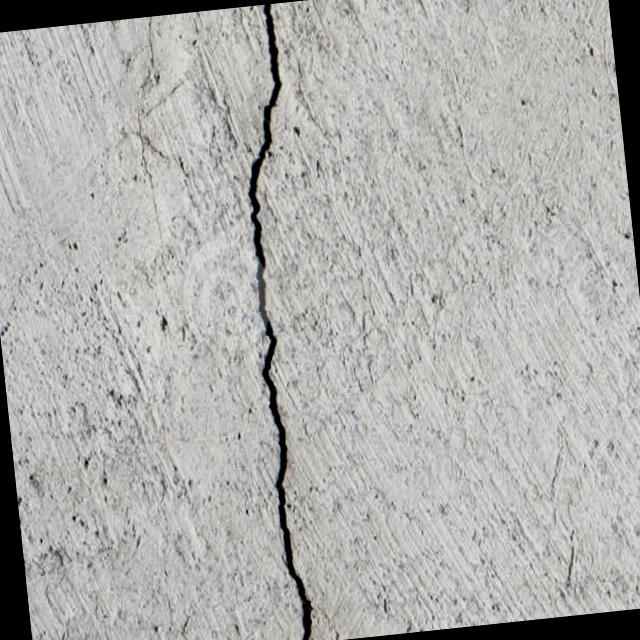crack: (216, 3, 342, 640)
